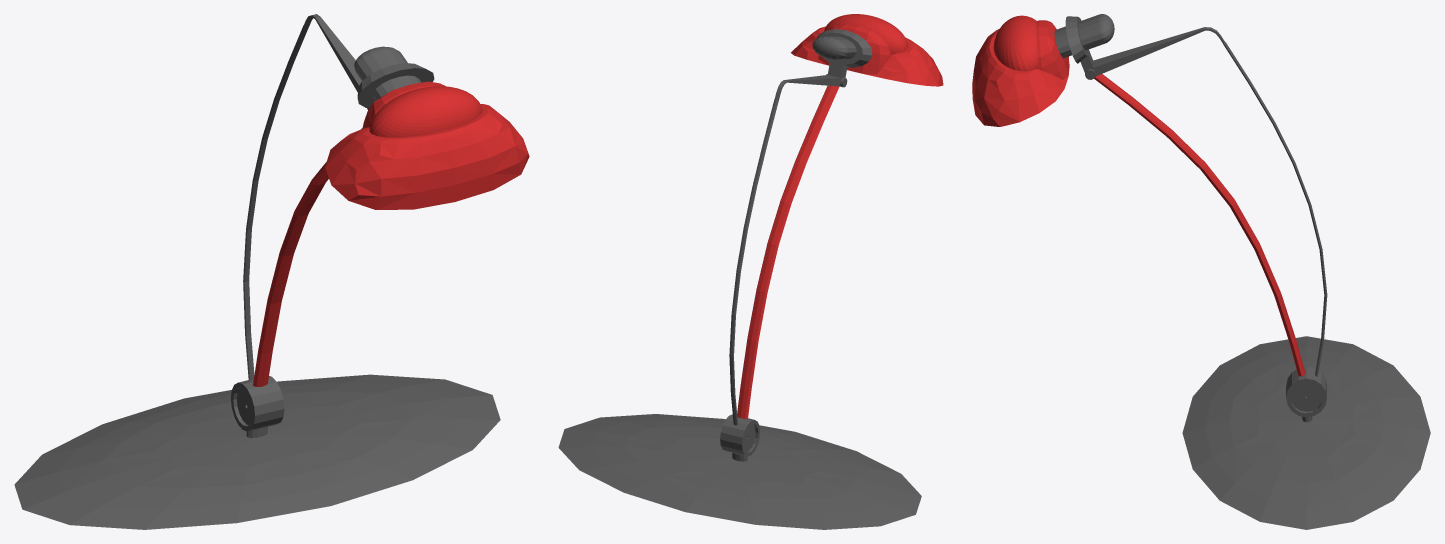
File: sh-scopia-desk-lamp2.glb
3 views of the same model, side by side, from view 1: azimuth 30°, elevation 25°; view 2: azimuth 150°, elevation 25°; view 3: azimuth 270°, elevation 25° (orthographic). The views are drawn at different scales.
Parts seen in each view (by area): view 1: jandrusOne_Plane.003_black, jandrusOne_Plane.003_metalillo; view 2: jandrusOne_Plane.003_black, jandrusOne_Plane.003_metalillo; view 3: jandrusOne_Plane.003_black, jandrusOne_Plane.003_metalillo.
Boxes of the visible parts, left/top/right/bottom form: jandrusOne_Plane.003_black: left=14, top=14, right=500, bottom=529; jandrusOne_Plane.003_metalillo: left=253, top=81, right=529, bottom=386; jandrusOne_Plane.003_black: left=558, top=29, right=921, bottom=529; jandrusOne_Plane.003_metalillo: left=737, top=14, right=943, bottom=418; jandrusOne_Plane.003_black: left=1054, top=14, right=1430, bottom=529; jandrusOne_Plane.003_metalillo: left=972, top=15, right=1305, bottom=376.
Size of the model in its own units: 1 by 1 by 1.
